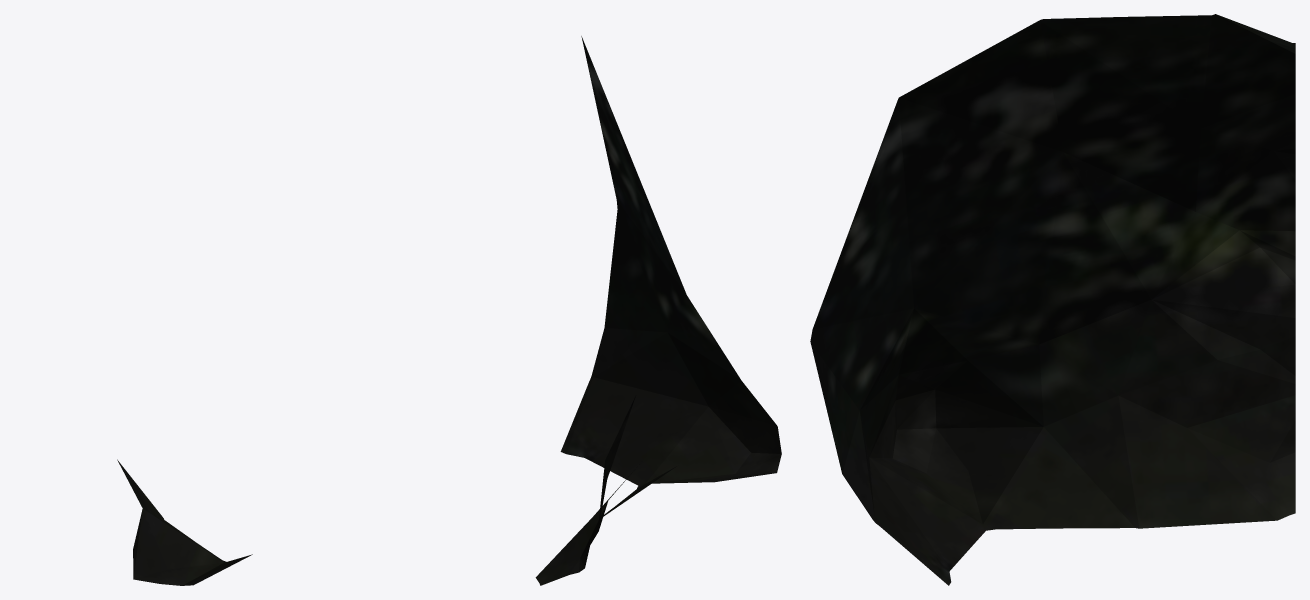
The picture shows the model from 3 angles, left to right: view 1: azimuth 30°, elevation 25°; view 2: azimuth 150°, elevation 25°; view 3: azimuth 270°, elevation 25°; orthographic projection. The views are drawn at different scales.
Size of the model in its own units: 0.3474 by 0.7365 by 0.5662.
Materials: 2 (2 with a texture image).
